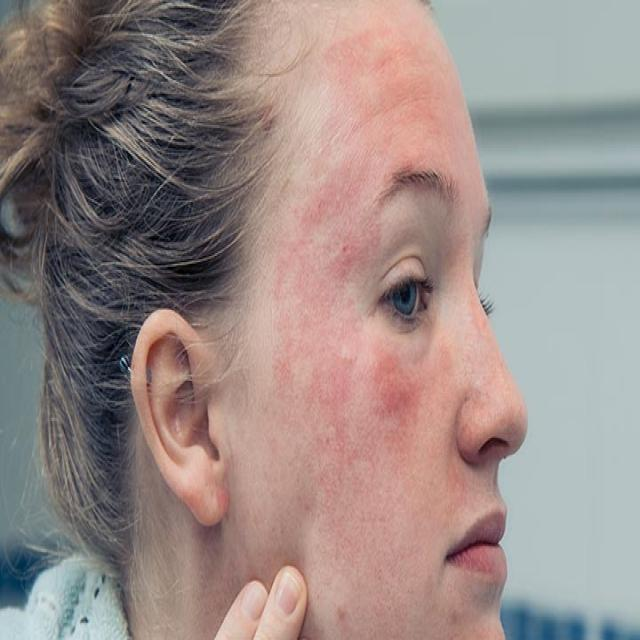Eczema: (285, 351, 423, 503), (283, 165, 367, 333)
